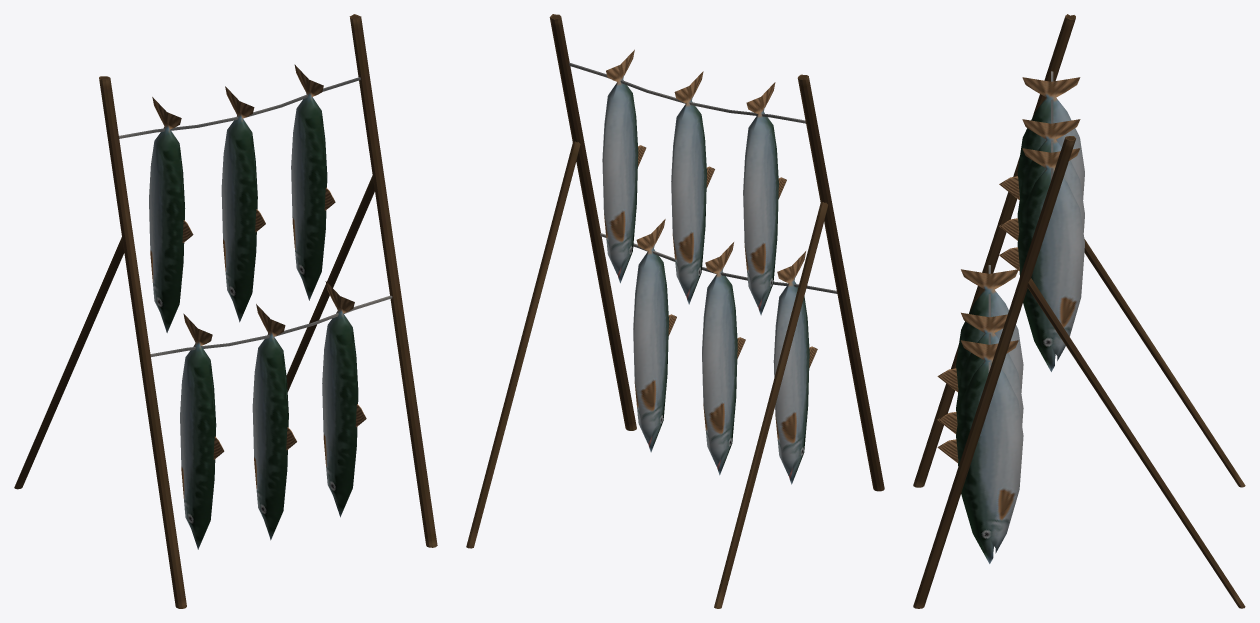
Rendered from DryingRack_GEo.fbx.
3 renders of one model, left to right at view 1: azimuth 30°, elevation 25°; view 2: azimuth 150°, elevation 25°; view 3: azimuth 270°, elevation 25°, orthographic.
Parts seen in each view (by area): view 1: DryingRack_Geo, Fish03_Geo, Fish02_Geo, Fish05_Geo, Fish06_Geo, Fish04_Geo, Fish01_Geo; view 2: DryingRack_Geo, Fish03_Geo, Fish01_Geo, Fish05_Geo, Fish02_Geo, Fish06_Geo, Fish04_Geo; view 3: DryingRack_Geo, Fish06_Geo, Fish03_Geo, Fish04_Geo, Fish01_Geo, Fish02_Geo, Fish05_Geo.
Part boxes in pixels (x1=…): DryingRack_Geo: x1=14, y1=14, x2=437, y2=608; Fish03_Geo: x1=291, y1=64, x2=335, y2=300; Fish02_Geo: x1=221, y1=86, x2=265, y2=322; Fish05_Geo: x1=252, y1=304, x2=296, y2=540; Fish06_Geo: x1=322, y1=281, x2=366, y2=517; Fish04_Geo: x1=180, y1=313, x2=224, y2=549; Fish01_Geo: x1=149, y1=97, x2=193, y2=332; DryingRack_Geo: x1=466, y1=14, x2=884, y2=608; Fish03_Geo: x1=602, y1=49, x2=646, y2=283; Fish01_Geo: x1=743, y1=82, x2=786, y2=315; Fish05_Geo: x1=702, y1=242, x2=745, y2=475; Fish02_Geo: x1=671, y1=71, x2=714, y2=304; Fish06_Geo: x1=633, y1=219, x2=676, y2=452; Fish04_Geo: x1=773, y1=251, x2=817, y2=484; DryingRack_Geo: x1=913, y1=14, x2=1245, y2=608; Fish06_Geo: x1=937, y1=340, x2=1023, y2=563; Fish03_Geo: x1=999, y1=148, x2=1084, y2=371; Fish04_Geo: x1=937, y1=269, x2=1023, y2=392; Fish01_Geo: x1=999, y1=77, x2=1084, y2=199; Fish02_Geo: x1=999, y1=119, x2=1084, y2=240; Fish05_Geo: x1=937, y1=312, x2=1023, y2=433.
Size of the model in its own units: 104 by 181 by 116.
